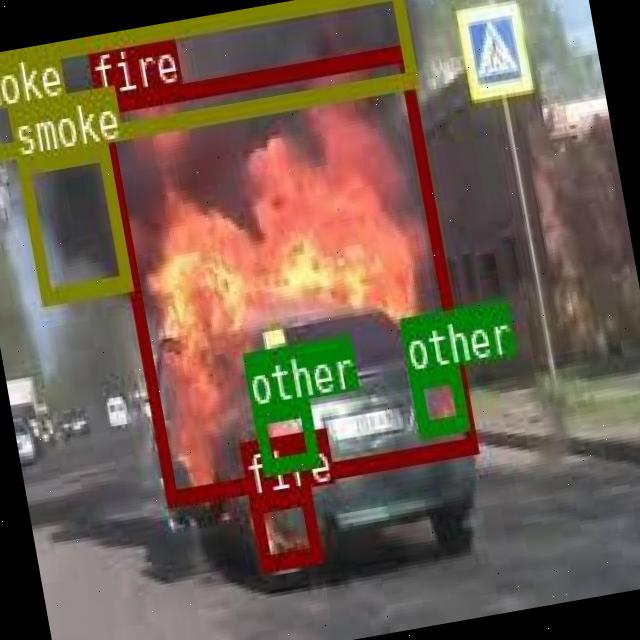fire: (95, 43, 476, 504), (248, 487, 320, 568)
smoke: (0, 0, 414, 159), (15, 143, 129, 301)
